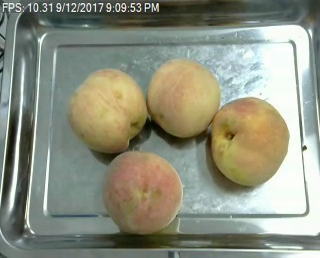Peach: (209, 95, 289, 187), (67, 67, 147, 154), (103, 150, 182, 233), (147, 58, 220, 137)
